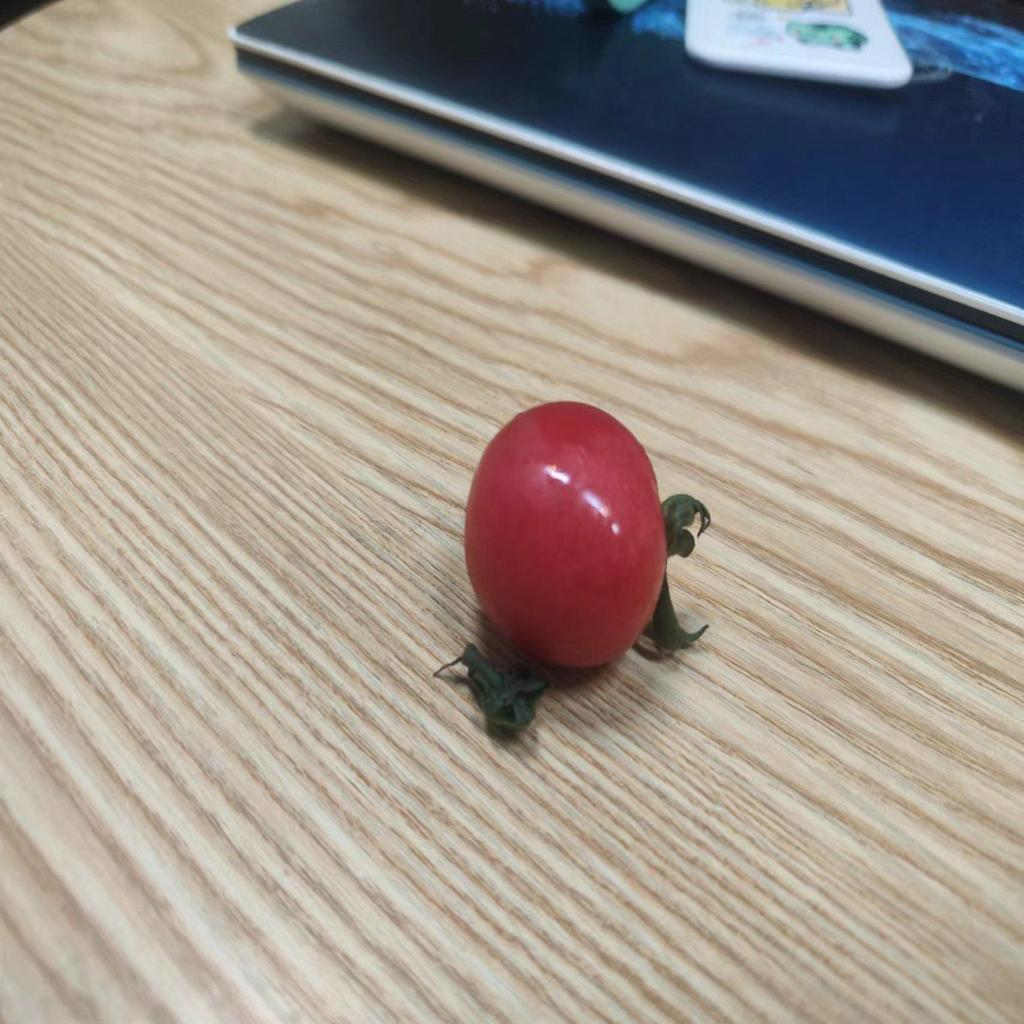tomato: (459, 393, 673, 685)
